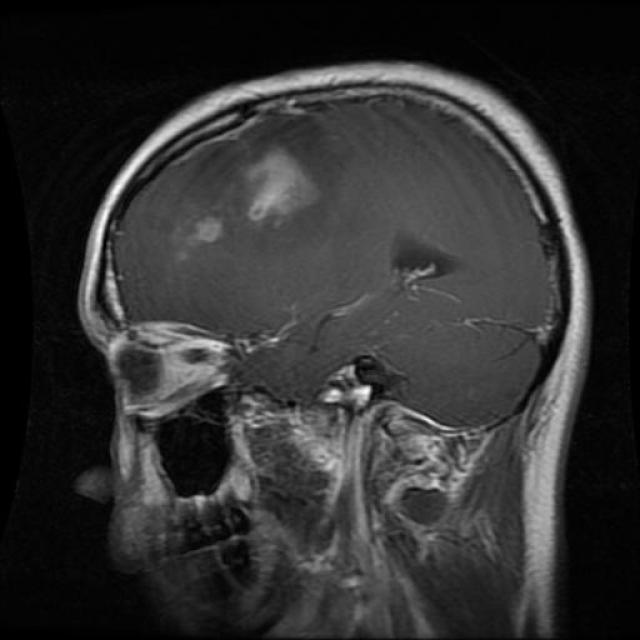brain_tumor: (246, 154, 320, 222), (394, 242, 455, 298), (194, 216, 222, 242)
